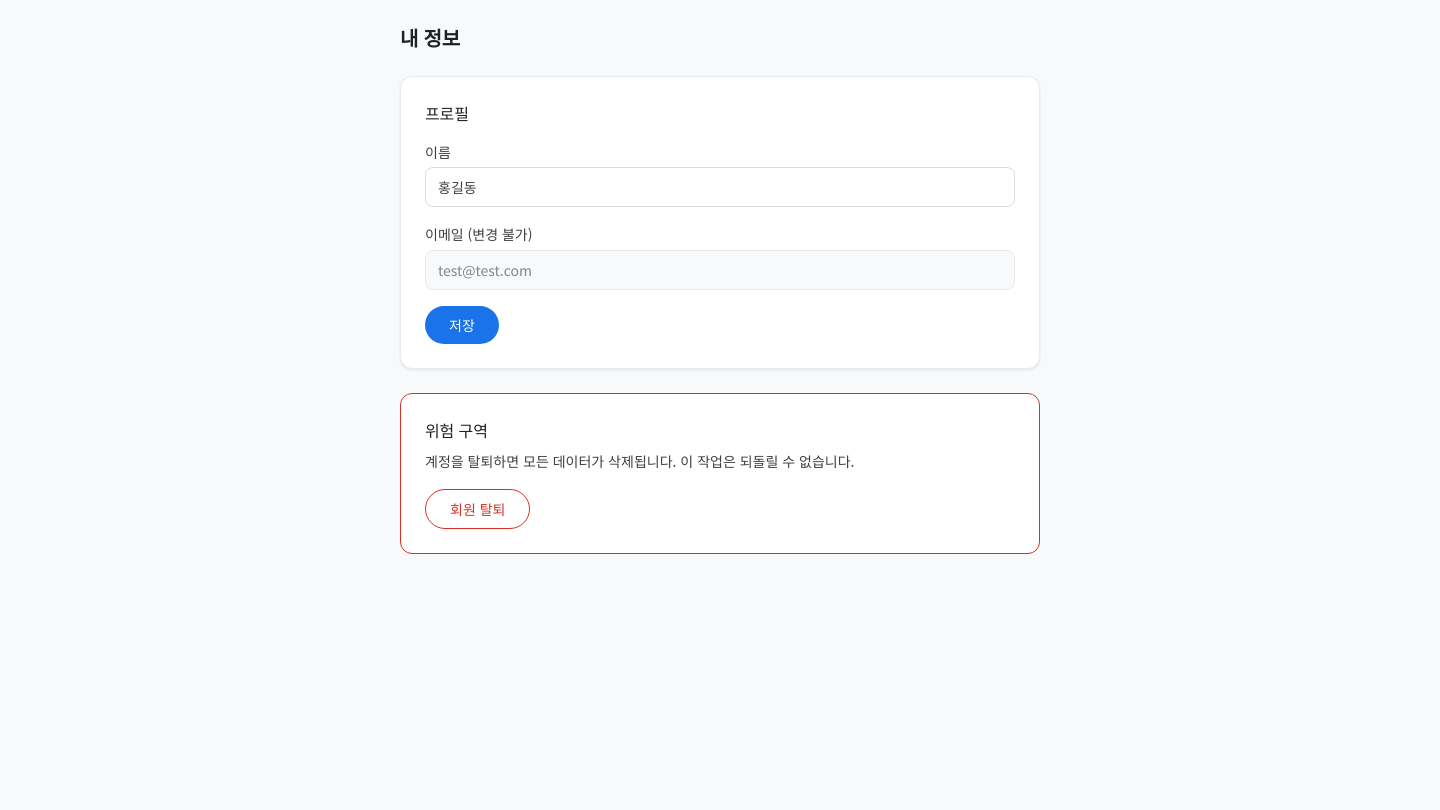
Test: ProfilePage › 탈퇴 Modal에서 취소 시 Modal이 닫힌다
Step 1. Click the button "회원 탈퇴" → (478, 509), box [425,489,530,529]
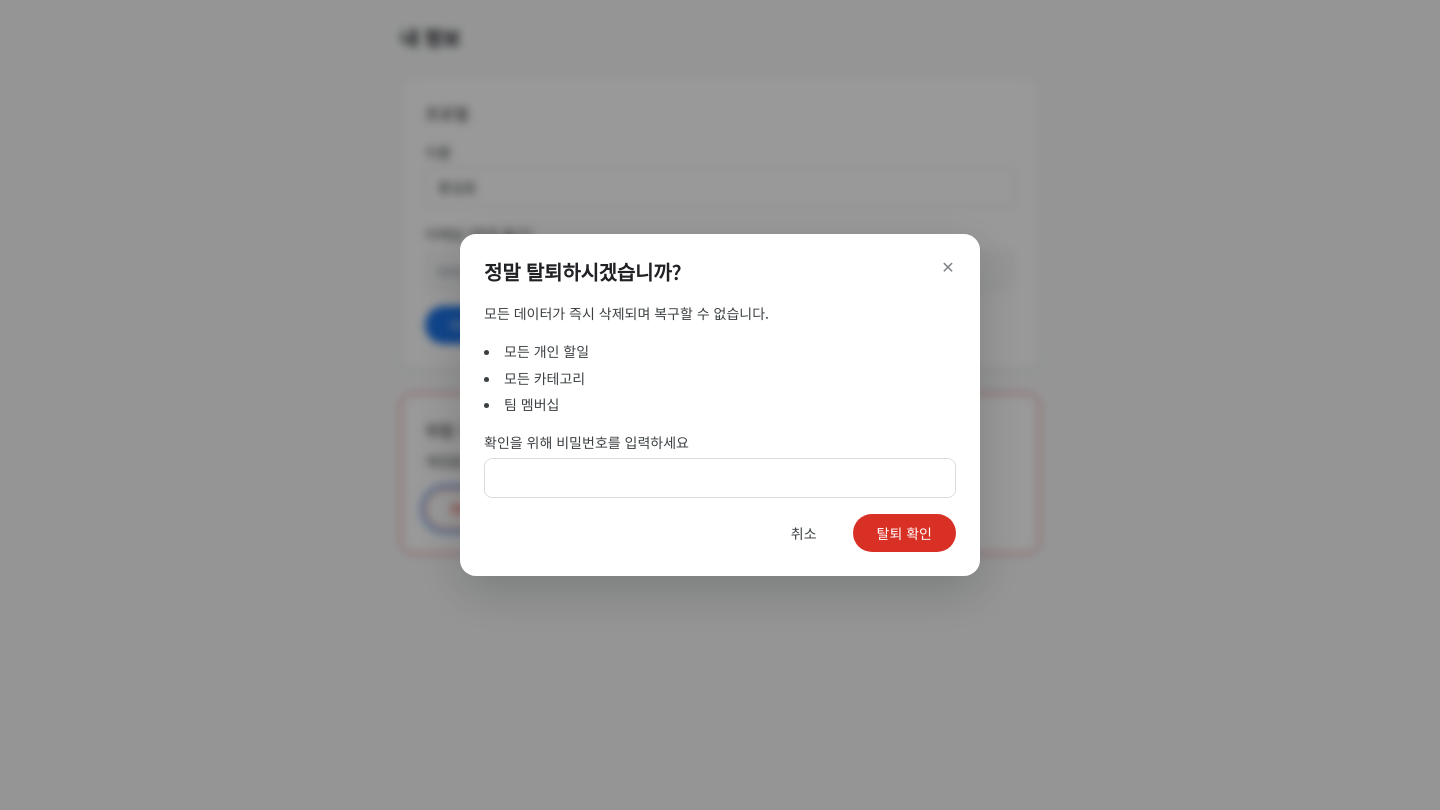
Expected: the dialog is shown, [460,234,980,576]
Step 2. Click the button "취소" → (804, 533), box [767,514,841,552]
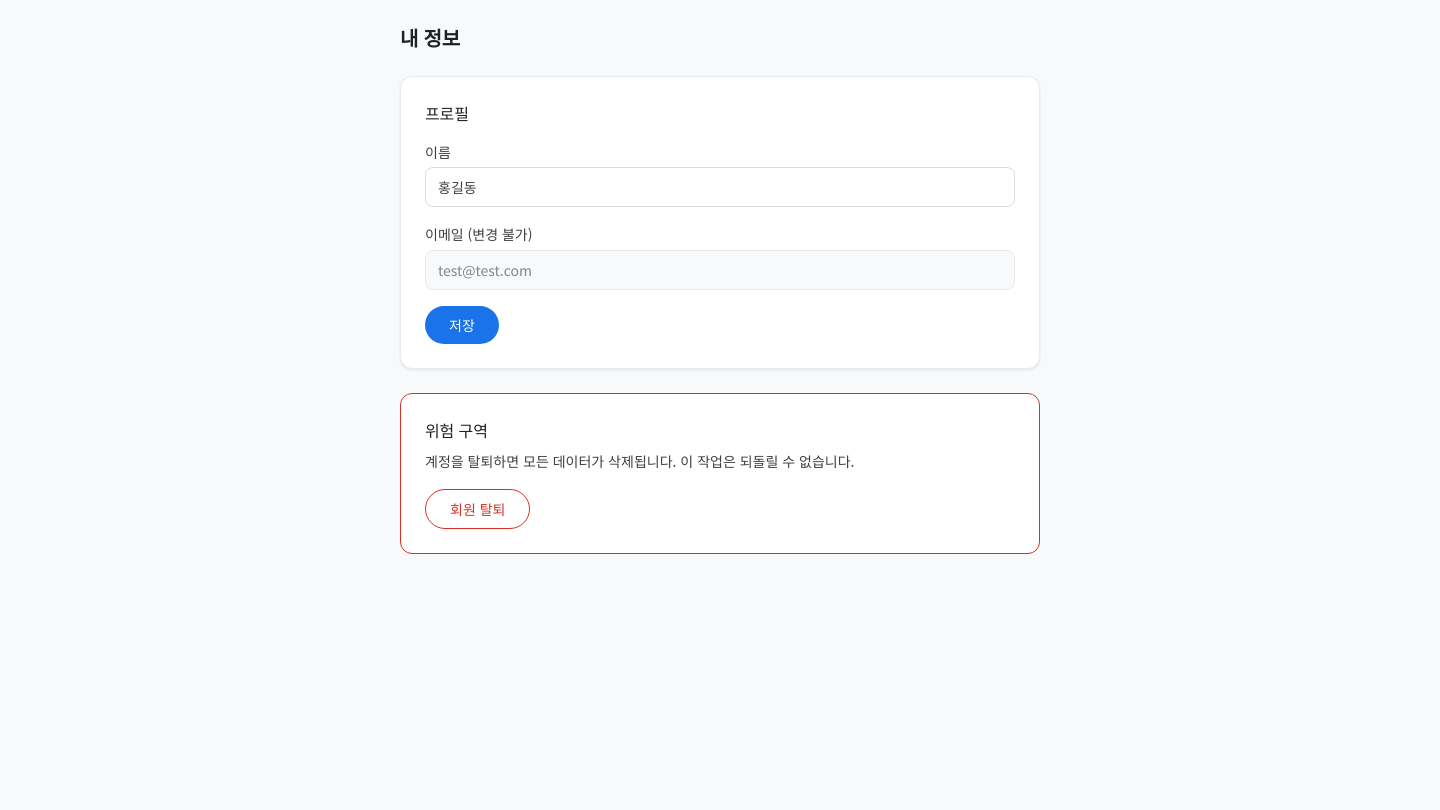
Expected: the dialog is gone
